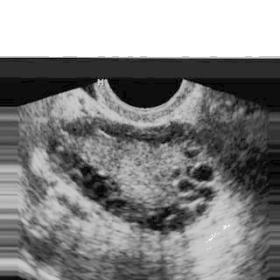PCOS: (193, 162, 215, 186), (81, 172, 113, 188), (103, 198, 127, 210), (77, 165, 98, 178), (183, 148, 206, 159), (157, 207, 173, 220), (171, 167, 186, 180), (142, 215, 159, 226), (92, 185, 108, 196), (150, 223, 166, 232)
